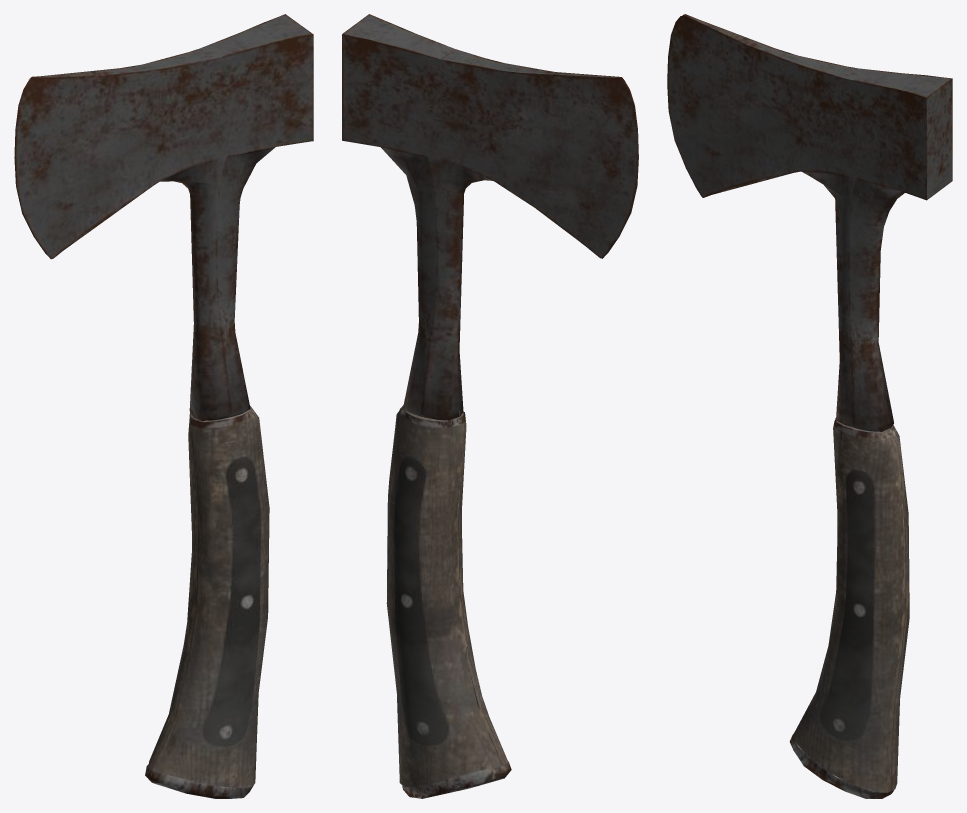
File: hatchet_lod1.glb
The picture shows the model from 3 angles, left to right: view 1: azimuth 30°, elevation 25°; view 2: azimuth 150°, elevation 25°; view 3: azimuth 330°, elevation 25°; orthographic projection. The views are drawn at different scales.
Parts seen in each view (by area): view 1: Hatchet_LOD1_temp; view 2: Hatchet_LOD1_temp; view 3: Hatchet_LOD1_temp.
Part boxes in pixels (x1,y1,x2,y2): Hatchet_LOD1_temp: [14, 14, 313, 798]; Hatchet_LOD1_temp: [342, 14, 638, 798]; Hatchet_LOD1_temp: [667, 14, 952, 798].
Size of the model in its own units: 0.2535 by 0.6484 by 0.0548.
Materials: 1 (1 with a texture image).
